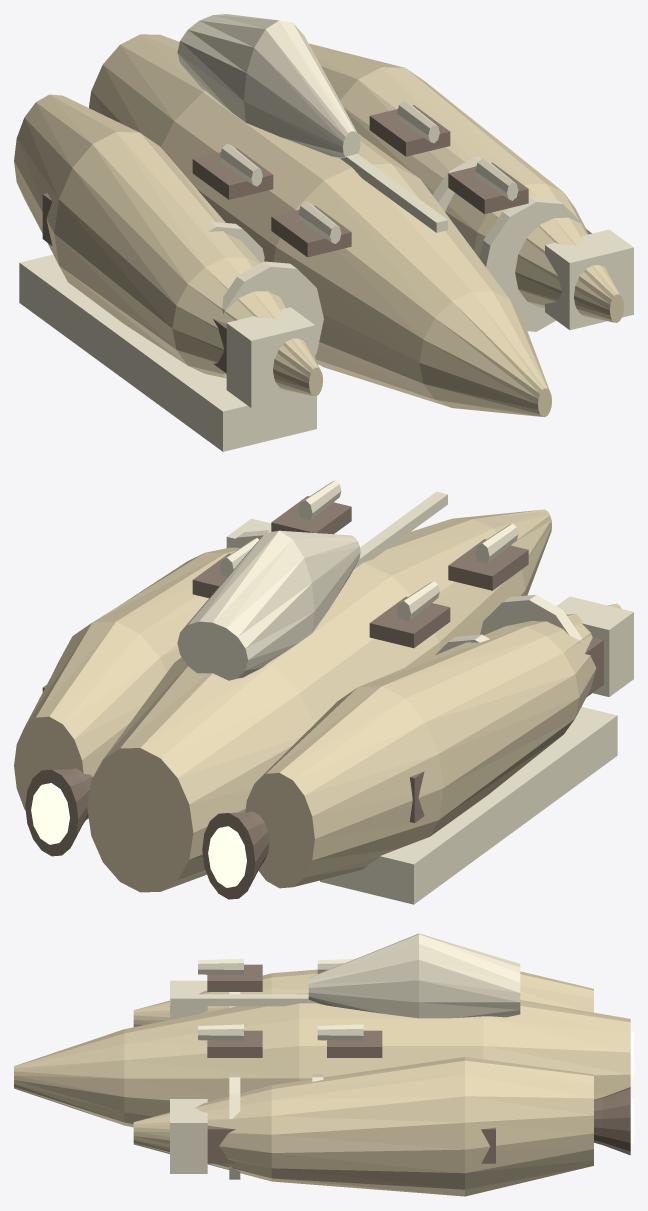
3 views of the same model, one above another, from view 1: azimuth 30°, elevation 25°; view 2: azimuth 150°, elevation 25°; view 3: azimuth 270°, elevation 25° (orthographic). The views are drawn at different scales.
Size of the model in its own units: 7.61 by 5.16 by 13.18.
